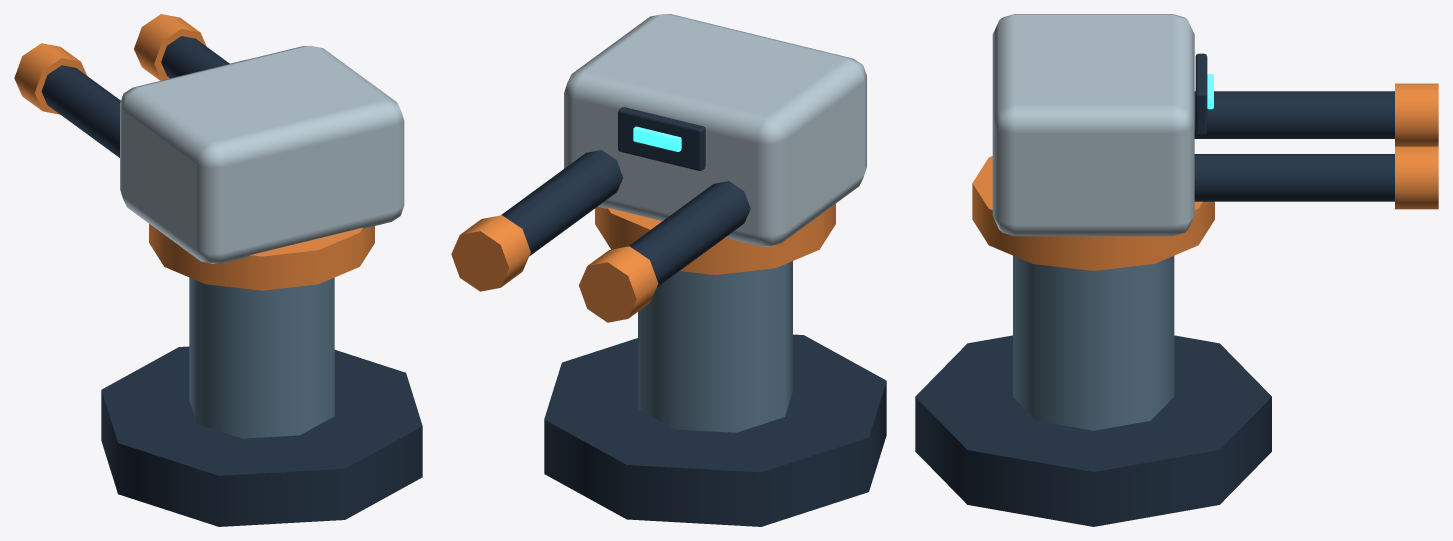
Rendered from sentry-turret.glb.
The picture shows the model from 3 angles, left to right: view 1: azimuth 30°, elevation 25°; view 2: azimuth 150°, elevation 25°; view 3: azimuth 270°, elevation 25°; orthographic projection. The views are drawn at different scales.
Visible parts, largest first — view 1: housing, foot, pedestal, turntable, barrel--0.22, muzzle--0.22, muzzle-0.22, barrel-0.22; view 2: housing, foot, pedestal, barrel--0.22, barrel-0.22, turntable, muzzle--0.22, muzzle-0.22, sensor, sensor-light; view 3: housing, foot, pedestal, barrel-0.22, barrel--0.22, turntable, muzzle-0.22, muzzle--0.22, sensor.
Part boxes in pixels (x1,y1,x2,y2): housing: (120, 45, 404, 263); foot: (101, 346, 422, 526); pedestal: (189, 277, 334, 438); turntable: (149, 224, 374, 290); barrel--0.22: (41, 65, 120, 157); muzzle--0.22: (14, 43, 86, 114); muzzle-0.22: (134, 14, 206, 80); barrel-0.22: (161, 36, 229, 78); housing: (564, 14, 866, 246); foot: (544, 334, 886, 526); pedestal: (638, 261, 792, 432); barrel--0.22: (628, 181, 750, 286); barrel-0.22: (501, 150, 622, 256); turntable: (595, 203, 835, 274); muzzle--0.22: (579, 246, 658, 322); muzzle-0.22: (451, 215, 530, 291); sensor: (618, 107, 705, 170); sensor-light: (633, 126, 681, 151); housing: (992, 14, 1194, 236); foot: (915, 335, 1271, 526); pedestal: (1013, 255, 1174, 430); barrel-0.22: (1194, 154, 1394, 201); barrel--0.22: (1194, 91, 1394, 138); turntable: (972, 156, 1214, 270); muzzle-0.22: (1395, 146, 1438, 209); muzzle--0.22: (1395, 83, 1438, 145); sensor: (1195, 53, 1207, 135).
Bounding box in the file's own units: 1.06 × 1.29 × 1.55.
